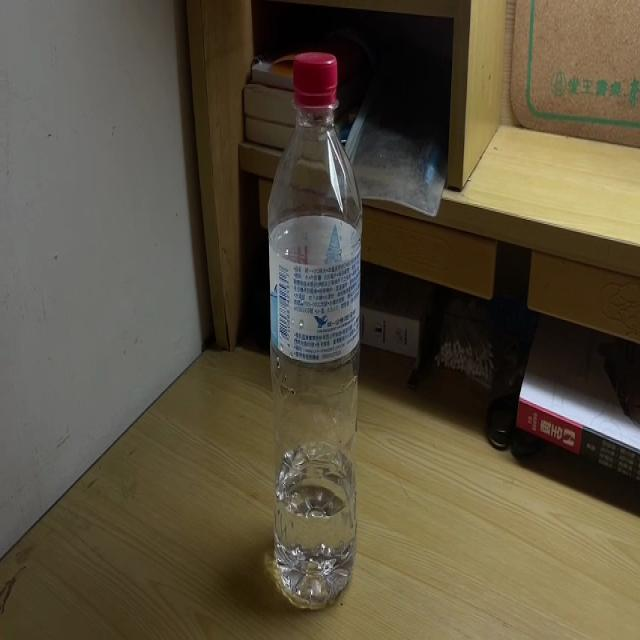Water: (268, 52, 360, 608)
